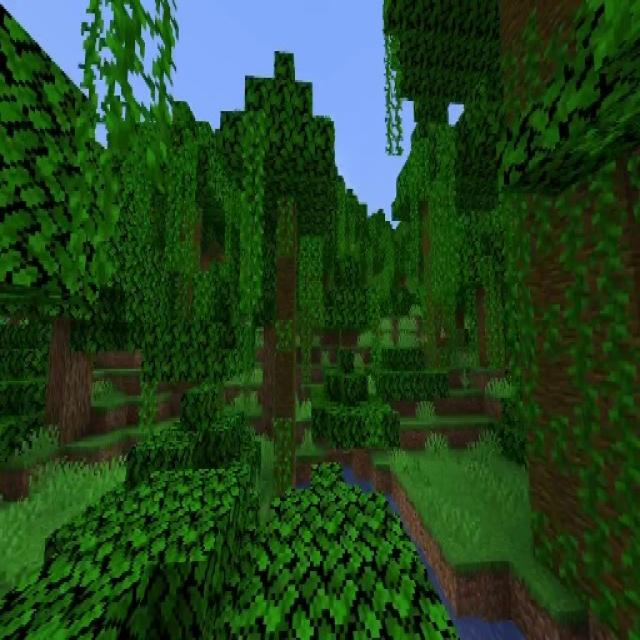jungle: (220, 48, 336, 492)
jungle_log: (499, 17, 640, 634), (275, 196, 297, 487)
oak_log: (51, 329, 92, 445)
